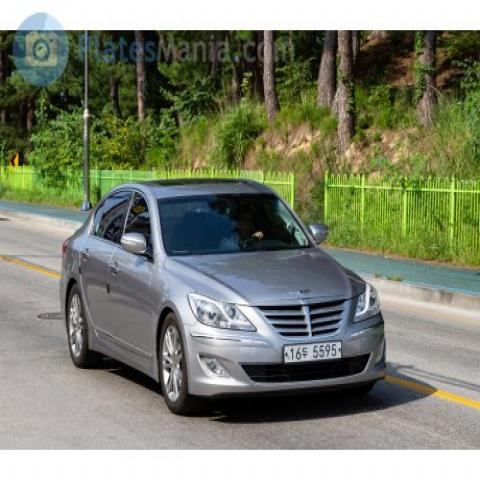LP: (277, 336, 350, 365)
